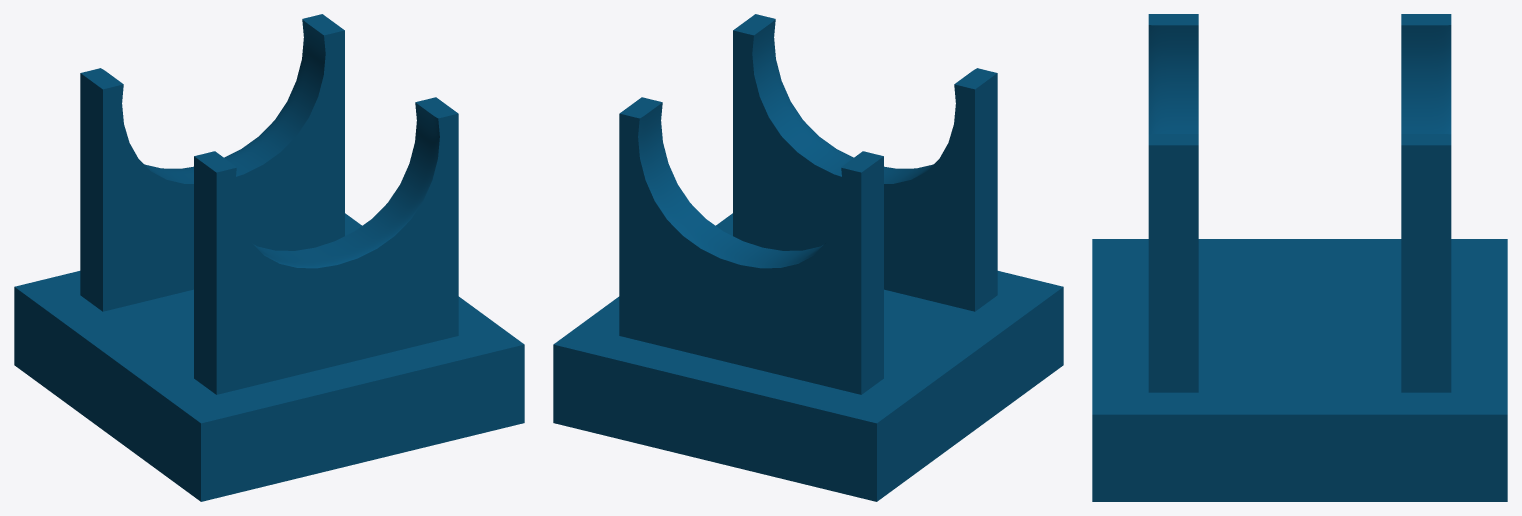
The model's file is SoporteResistencia.fbx.
The picture shows the model from 3 angles, left to right: view 1: azimuth 30°, elevation 25°; view 2: azimuth 150°, elevation 25°; view 3: azimuth 270°, elevation 25°; orthographic projection. The views are drawn at different scales.
Parts seen in each view (by area): view 1: Cube.002; view 2: Cube.002; view 3: Cube.002.
Part boxes in pixels (x1=…): Cube.002: x1=14, y1=14, x2=524, y2=501; Cube.002: x1=553, y1=14, x2=1063, y2=501; Cube.002: x1=1092, y1=14, x2=1507, y2=501.
Size of the model in its own units: 200 by 178 by 200.
